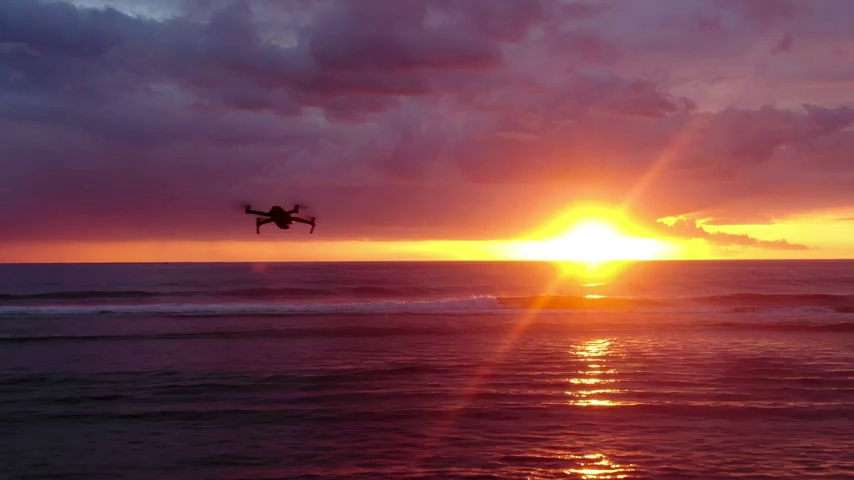drone: (242, 203, 316, 235)
